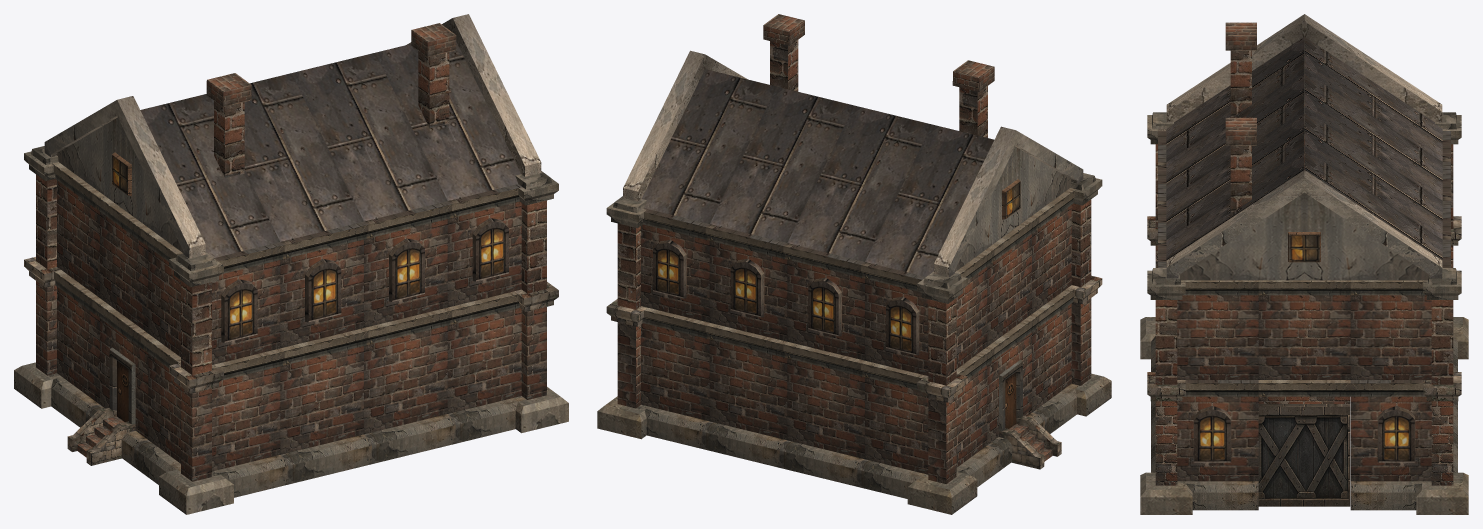
Rendered from building_3.fbx.
3 views of the same model, side by side, from view 1: azimuth 30°, elevation 25°; view 2: azimuth 150°, elevation 25°; view 3: azimuth 270°, elevation 25° (orthographic). The views are drawn at different scales.
Visible parts, largest first — view 1: pCube79; view 2: pCube79; view 3: pCube79.
Boxes of the visible parts, <box> form: pCube79: <box>14,14,568,514</box>; pCube79: <box>597,14,1111,514</box>; pCube79: <box>1140,14,1468,514</box>.
Size of the model in its own units: 1445 by 1270 by 1070.
